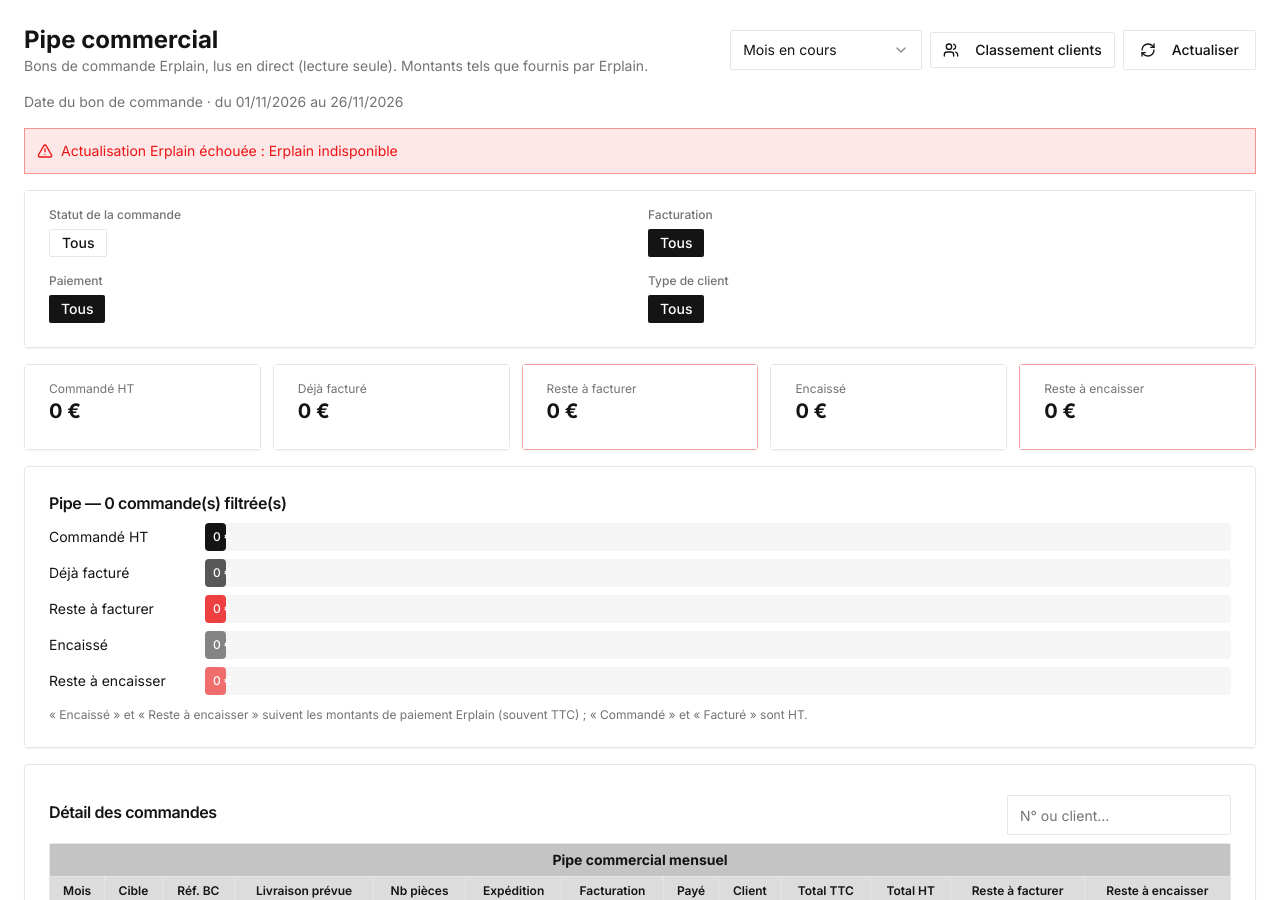
Pipe refresh › shows an API error and permits a successful refresh retry
This screenshot has width=1280, height=900.
Expected: the message shows "Erplain indisponible", [269,142,398,159]
Click the button "Actualiser": (1189,50) [1123,30,1256,70]
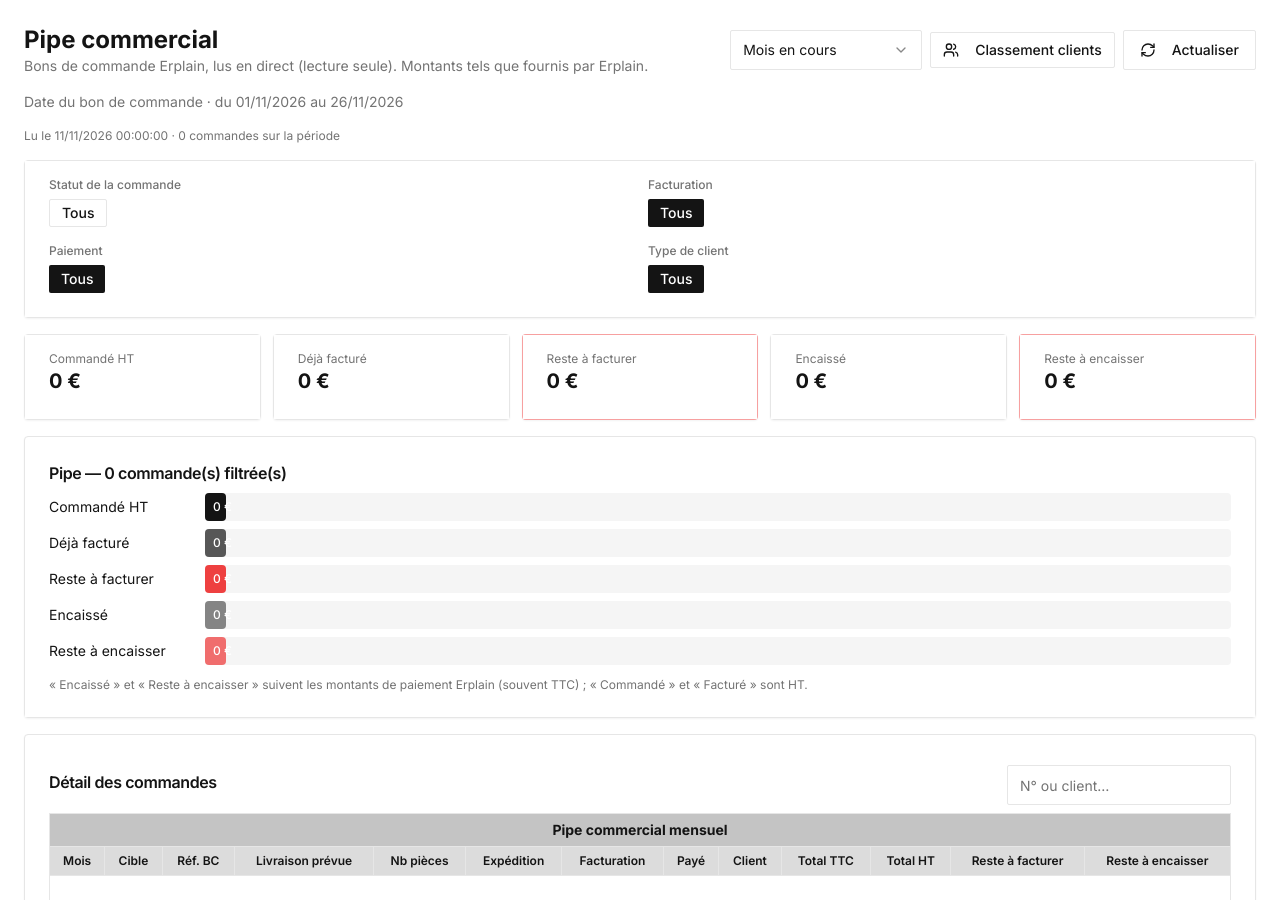
Now the message "Actualisation Erplain échouée : Erplain indisponible" is gone
